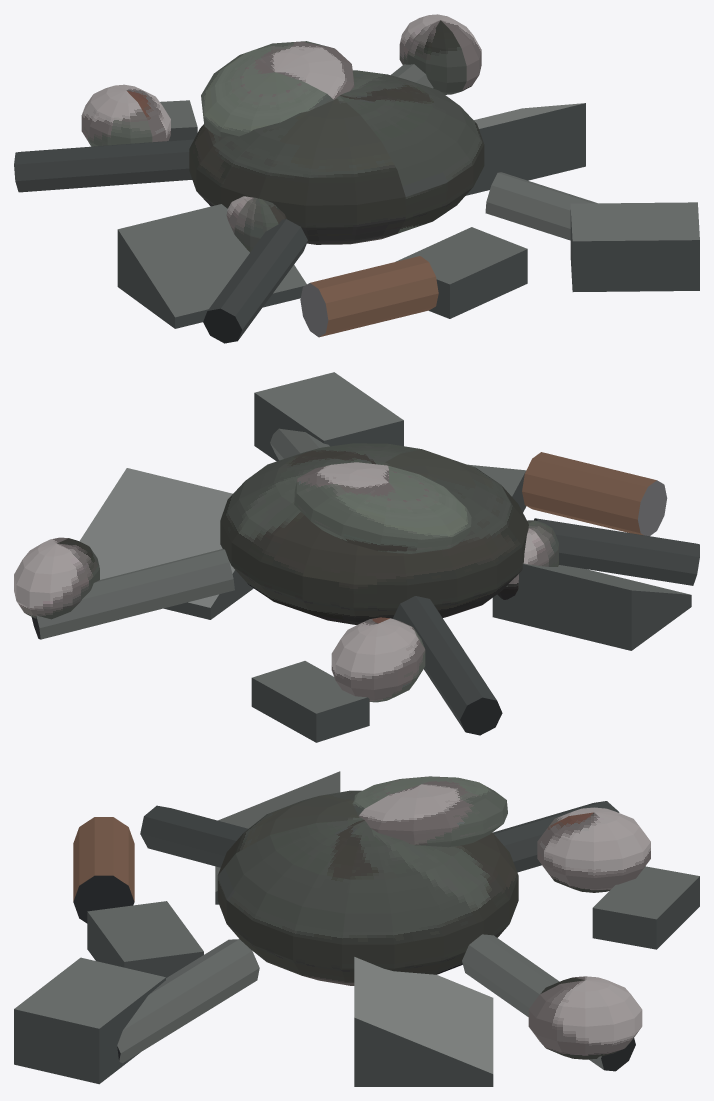
File: Building_AncientWarspiderRemains.glb
The picture shows the model from 3 angles, top to bottom: view 1: azimuth 30°, elevation 25°; view 2: azimuth 150°, elevation 25°; view 3: azimuth 270°, elevation 25°; orthographic projection. The views are drawn at different scales.
Parts seen in each view (by area): view 1: AncientWarspiderRemains; view 2: AncientWarspiderRemains; view 3: AncientWarspiderRemains.
Part boxes in pixels (<box>): AncientWarspiderRemains: <box>14,14,699,343</box>; AncientWarspiderRemains: <box>14,372,699,742</box>; AncientWarspiderRemains: <box>14,771,699,1086</box>.
Size of the model in its own units: 4.3 by 1.29 by 4.93.
1 material, 1 textured.
